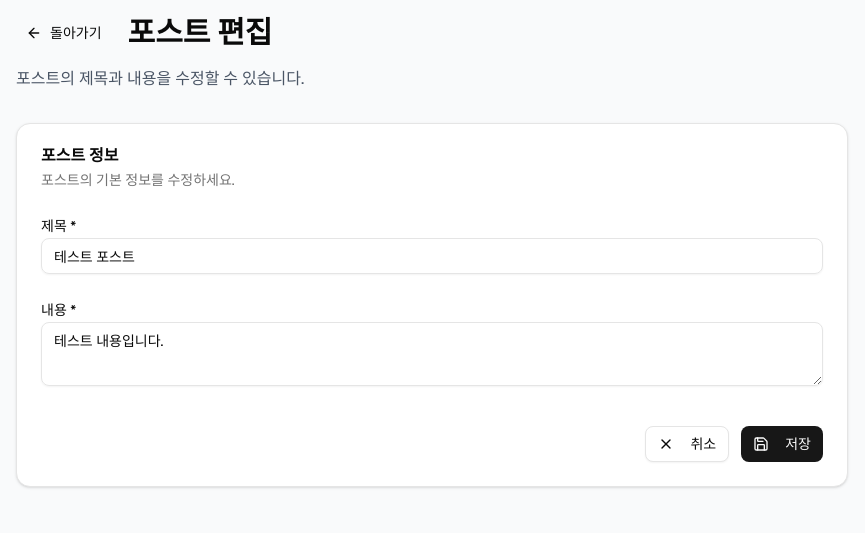
Test case: PostEditPage › 폼 검증 › should show validation error for empty content
Clear the text box labelled "내용 *" at point(432, 354), box [41,322,823,386]
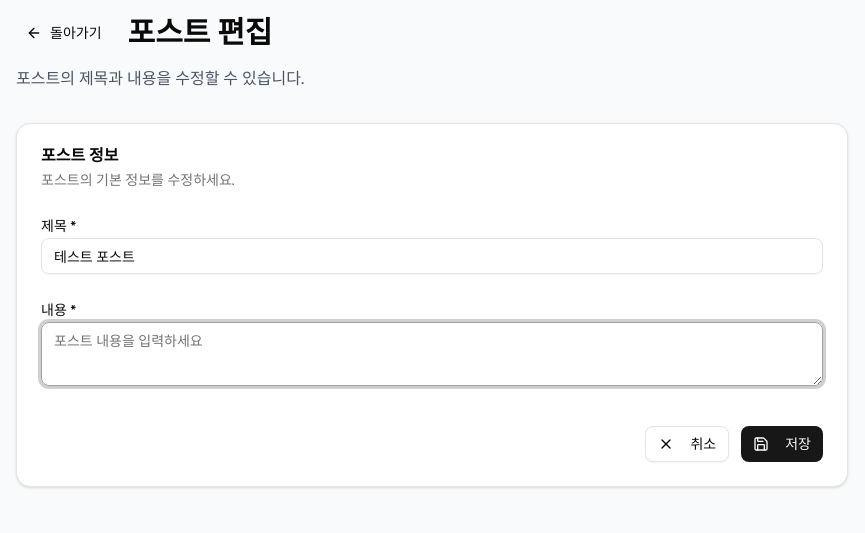
Click the button "저장" at point(782, 444), box [741,426,823,462]
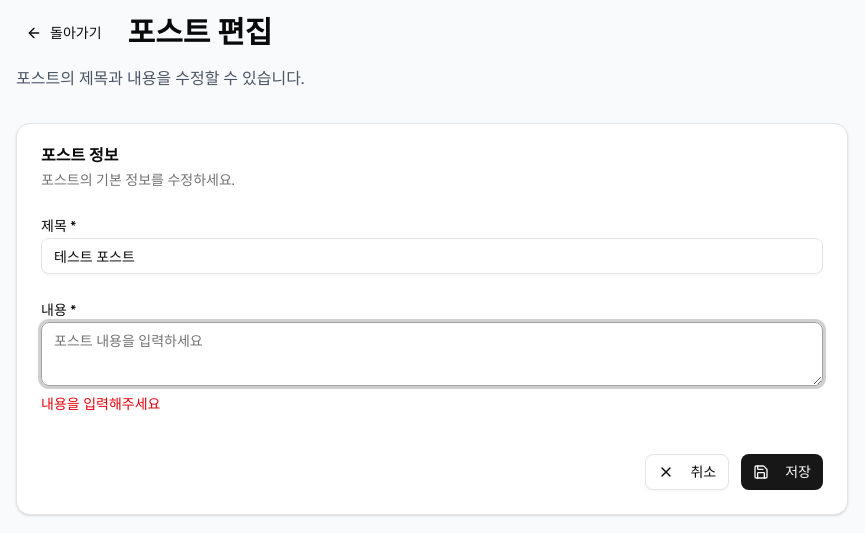
Expected: the text "내용을 입력해주세요" is shown, [41,395,160,413]
